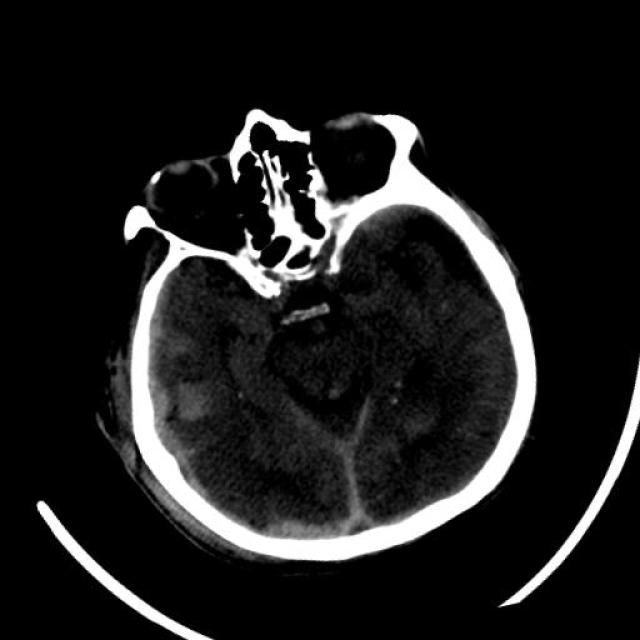Subdural: (46, 234, 368, 608)
